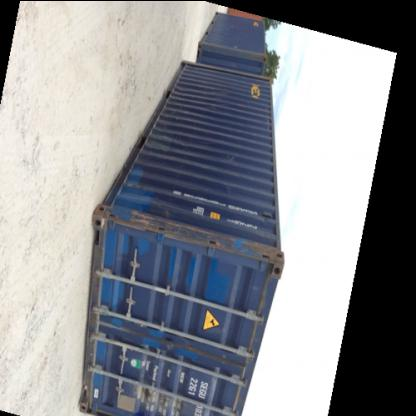Damage: (130, 204, 231, 250), (160, 104, 188, 156), (239, 234, 280, 266), (222, 146, 246, 170)
